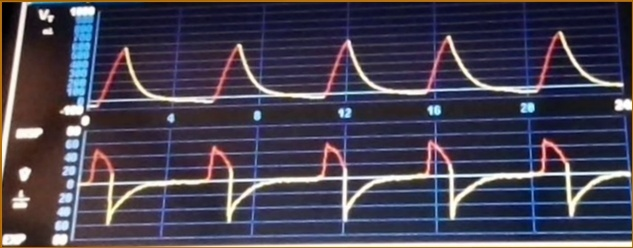Normal Flow: (82, 139, 628, 230)
Normal Volume: (93, 23, 622, 109)
